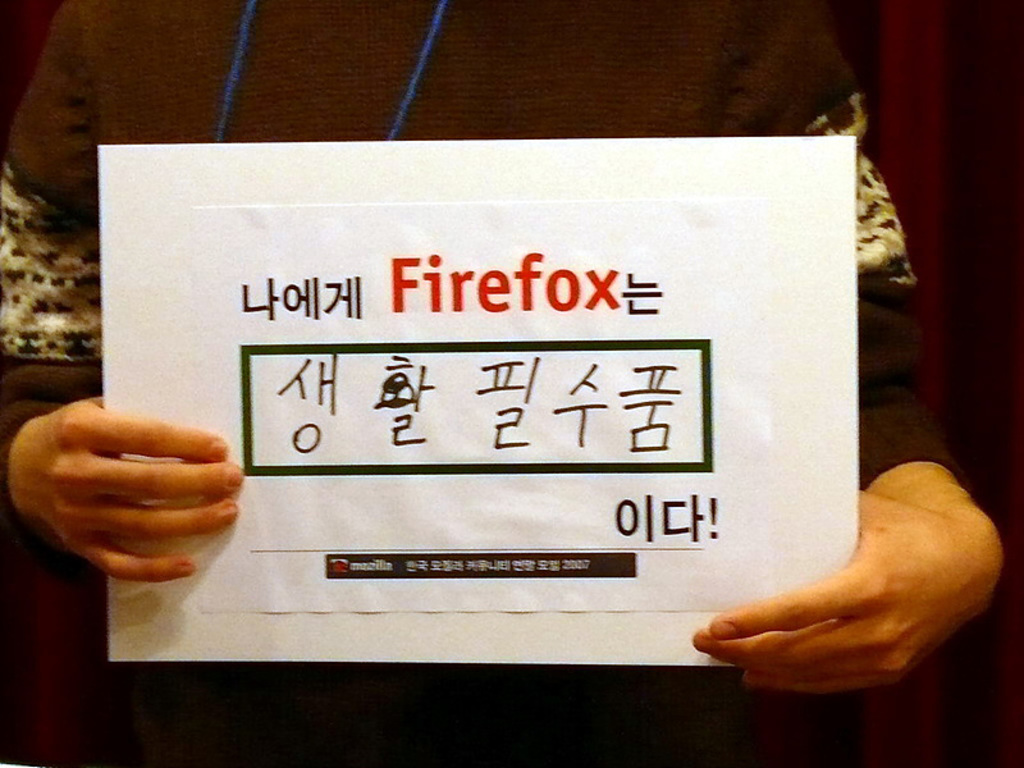Human_hand: (691, 488, 1002, 694), (6, 415, 255, 575)
